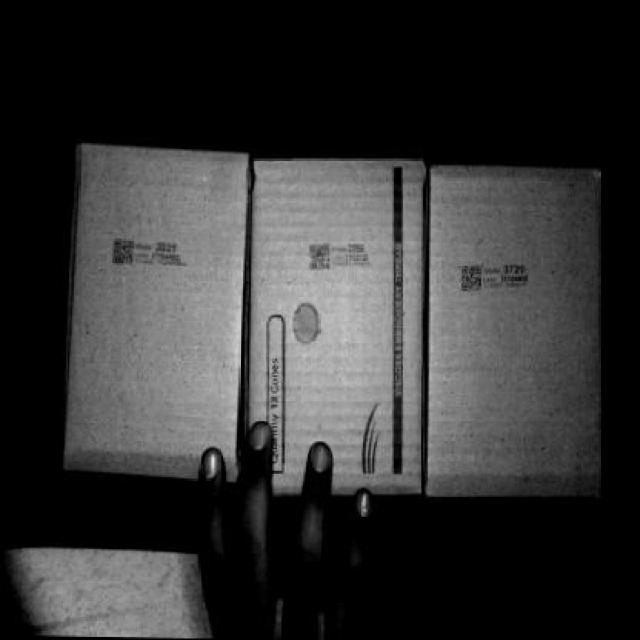cardboxes: (252, 152, 428, 500), (428, 168, 608, 498), (79, 137, 243, 485)
